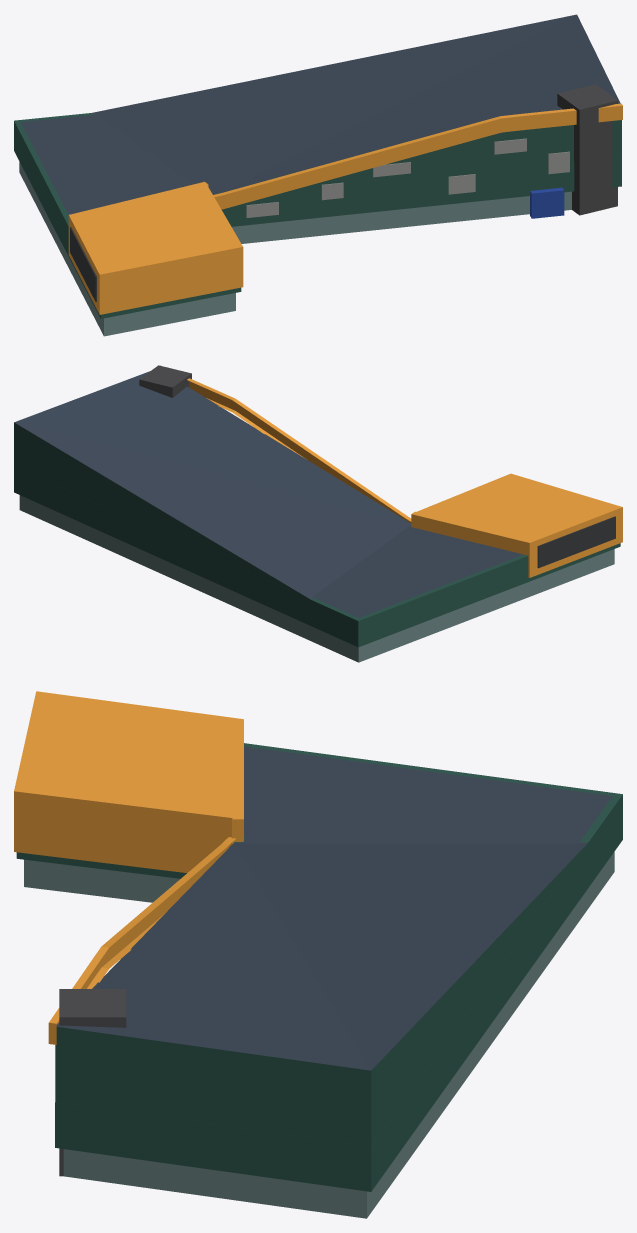
File: chaoma.glb
3 renders of one model, top to bottom at view 1: azimuth 30°, elevation 25°; view 2: azimuth 150°, elevation 25°; view 3: azimuth 270°, elevation 25°, orthographic. The views are drawn at different scales.
Visible parts, largest first — view 1: chaoma; view 2: chaoma; view 3: chaoma.
Boxes of the visible parts, bbox=[...] form: chaoma: bbox=[14, 14, 622, 336]; chaoma: bbox=[14, 365, 622, 662]; chaoma: bbox=[14, 691, 622, 1218].
Bounding box in the file's own units: 122 × 21 × 72.82.
